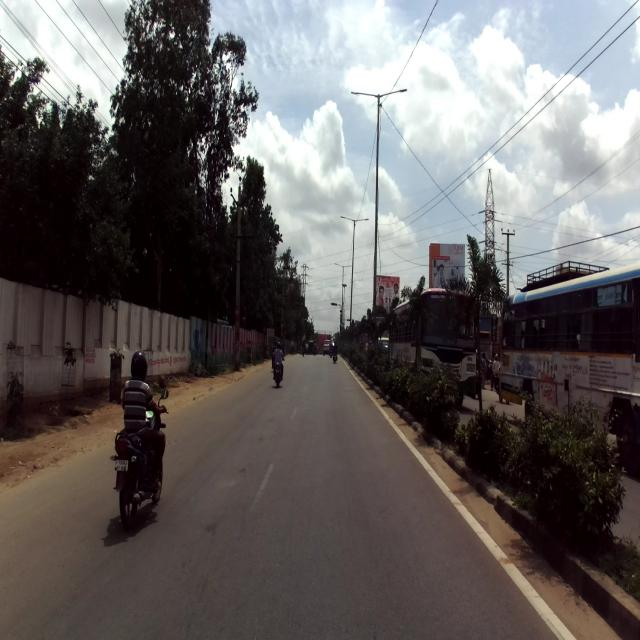bus: (498, 258, 640, 480)
motorcycle_Hero: (109, 386, 170, 527)
